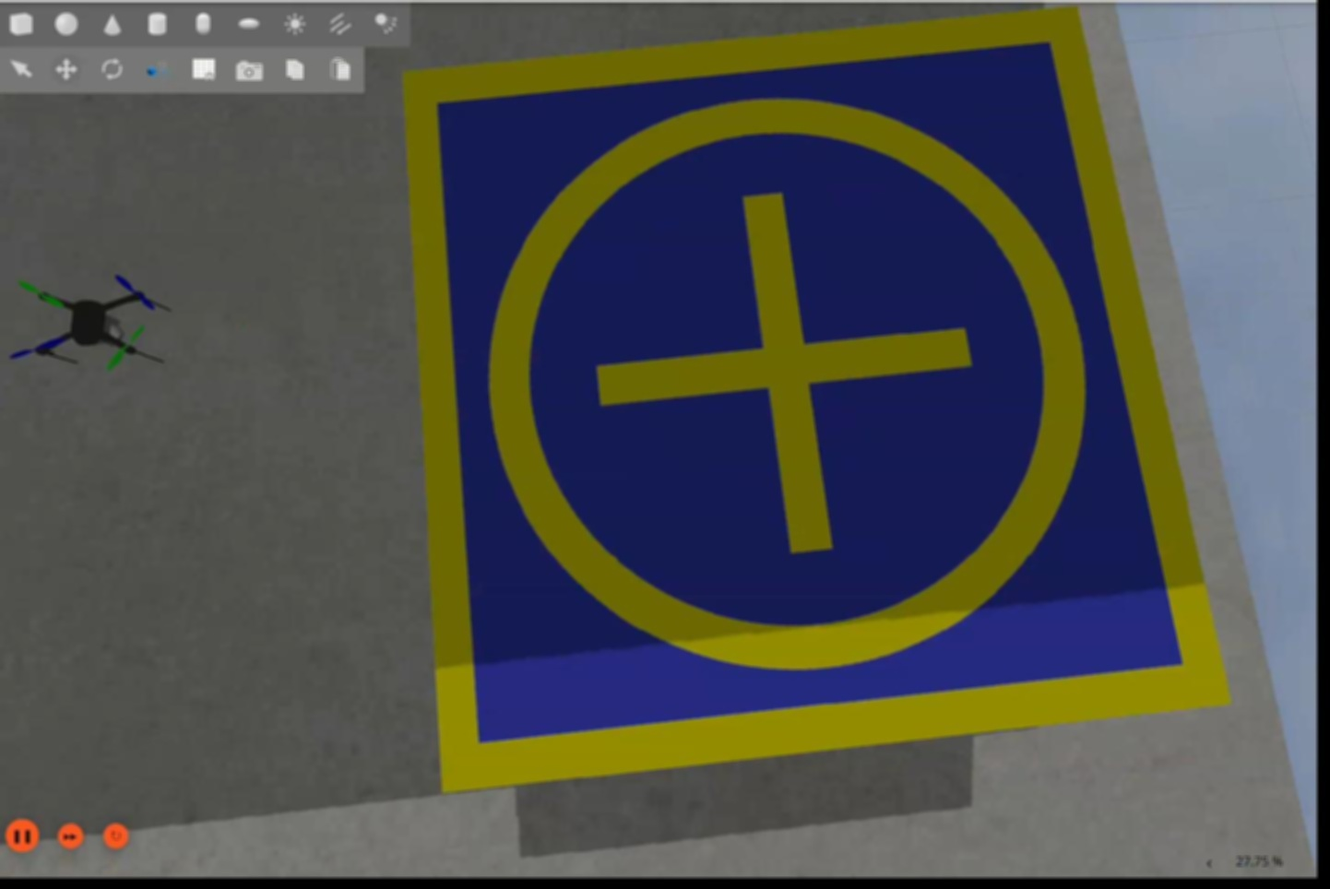small_base: (400, 4, 1229, 793)
